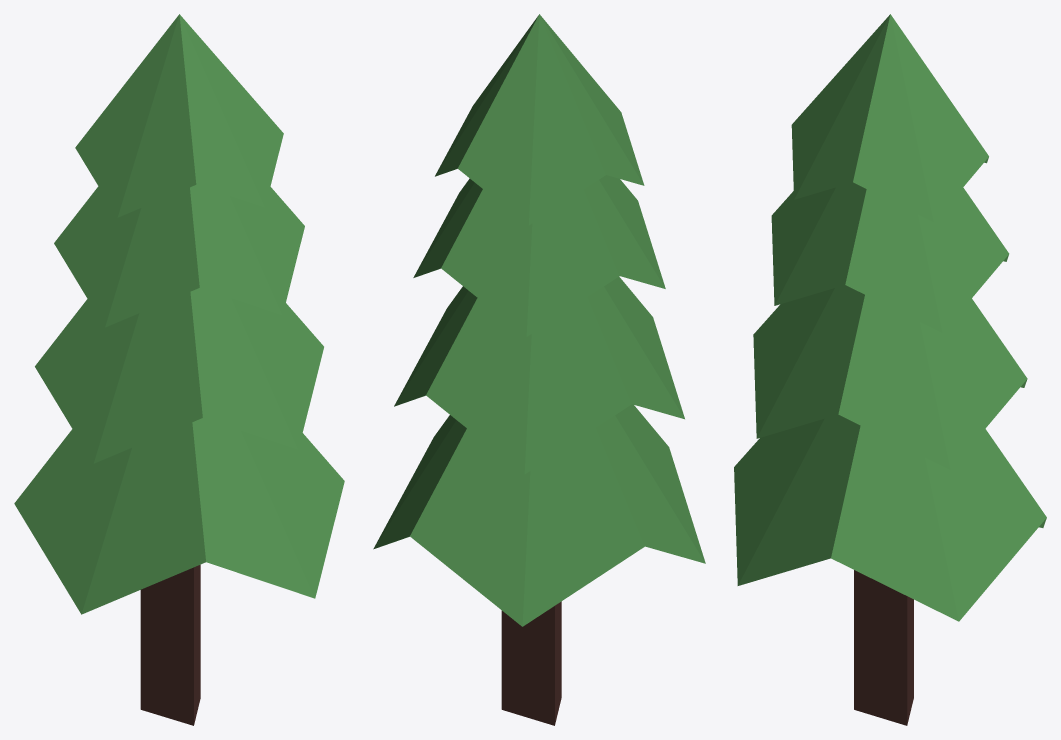
The model's file is fbtree_2.fbx.
3 renders of one model, left to right at view 1: azimuth 30°, elevation 25°; view 2: azimuth 150°, elevation 25°; view 3: azimuth 270°, elevation 25°, orthographic.
Parts seen in each view (by area): view 1: Cylinder.001; view 2: Cylinder.001; view 3: Cylinder.001.
Boxes of the visible parts, x1,y1,x2,y2 form: Cylinder.001: (14,14,344,725); Cylinder.001: (373,14,705,725); Cylinder.001: (734,14,1046,725).
Size of the model in its own units: 117 by 287 by 117.
